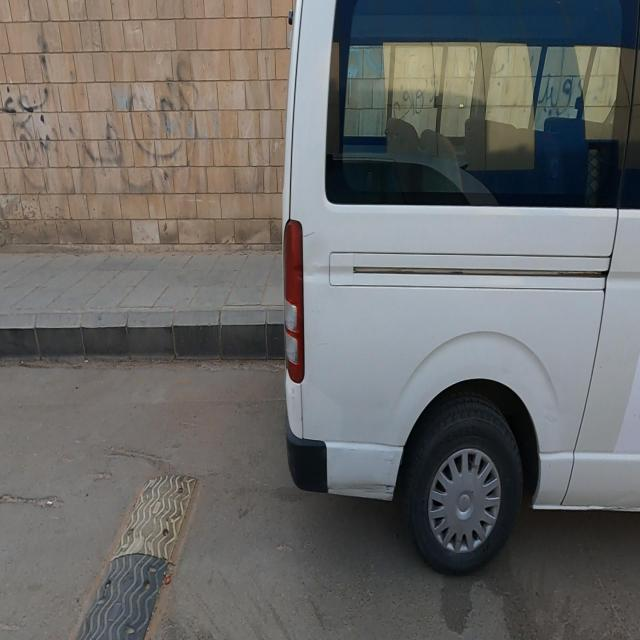Graffiti: (1, 33, 205, 197), (392, 73, 439, 125), (544, 70, 573, 117)
